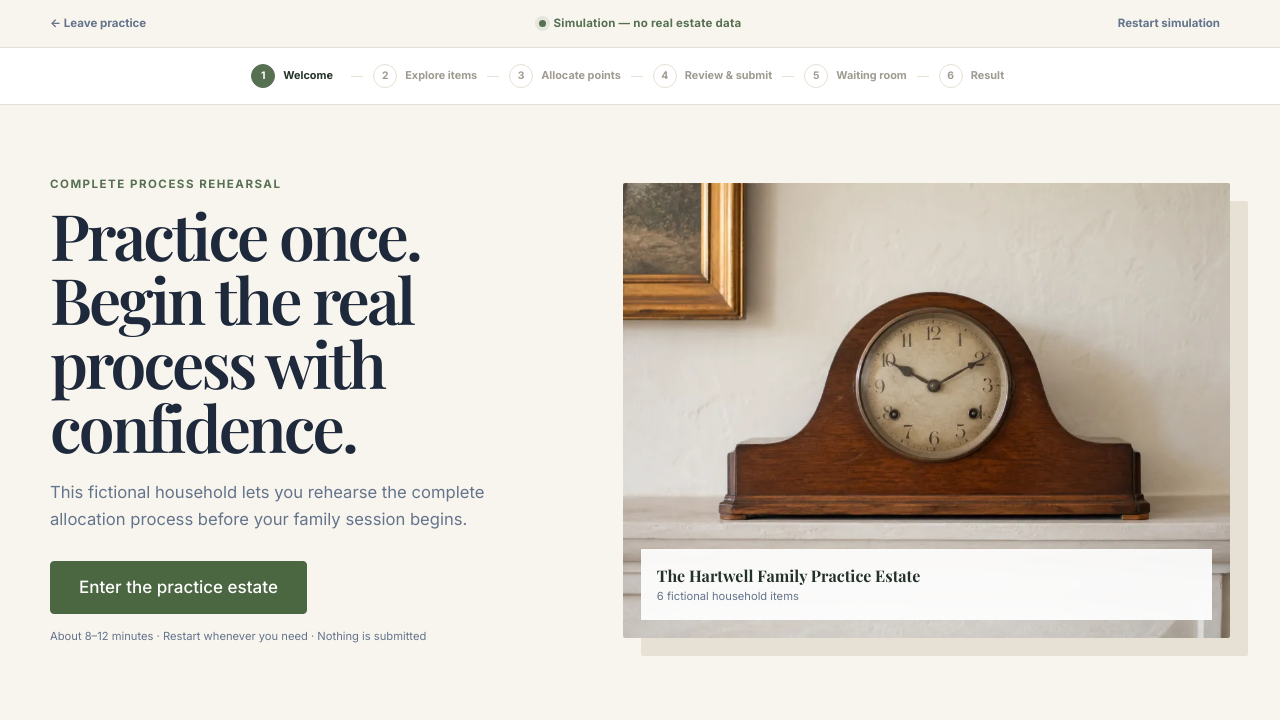
Test: AllocationPracticeRoom journey › moves from orientation into a six-item photo catalog
Click the button "Enter the practice estate" at (178, 588), box x1=50 y1=561 x2=307 y2=614
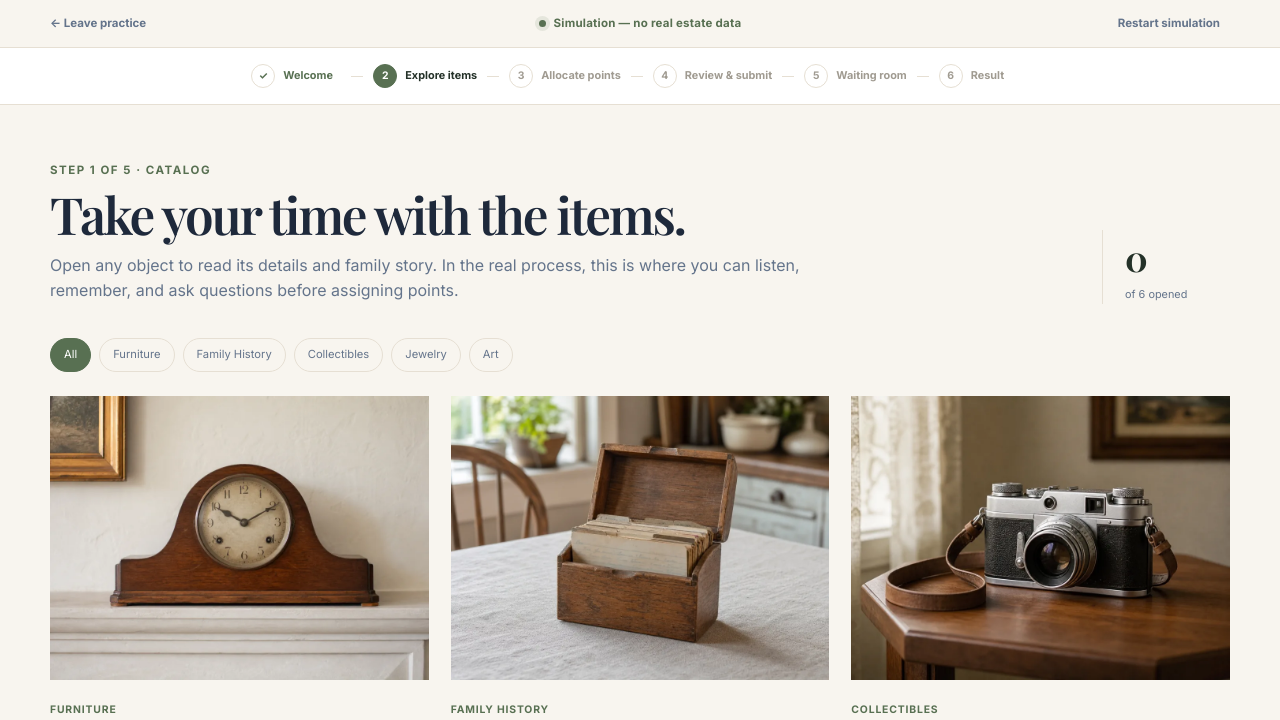
expect the heading "Take your time with the items." is shown: met, box x1=50 y1=180 x2=685 y2=248
